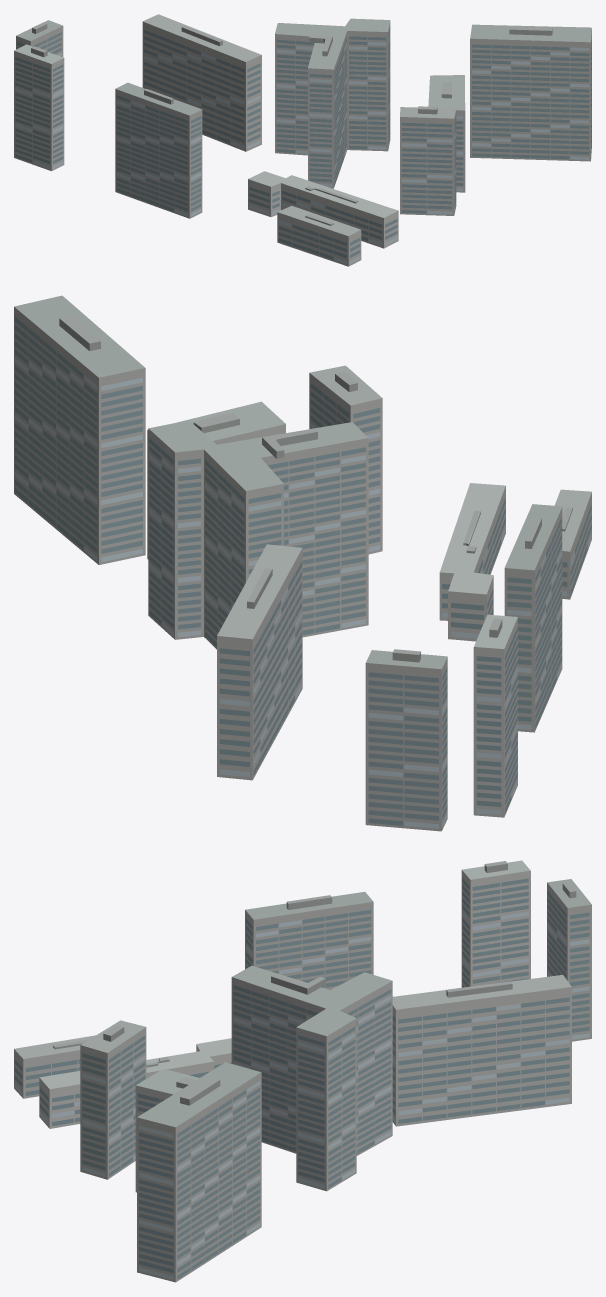
File: apt-a15809603.glb
3 renders of one model, top to bottom at view 1: azimuth 30°, elevation 25°; view 2: azimuth 150°, elevation 25°; view 3: azimuth 270°, elevation 25°, orthographic. The views are drawn at different scales.
Parts seen in each view (by area): view 1: apt-a15809603; view 2: apt-a15809603; view 3: apt-a15809603.
Part boxes in pixels (x1,y1,x2,y2): apt-a15809603: [14, 14, 591, 266]; apt-a15809603: [14, 295, 591, 831]; apt-a15809603: [14, 860, 591, 1282].
Bounding box in the file's own units: 233 × 62 × 201.
